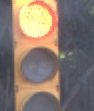Red: (9, 1, 62, 111)
